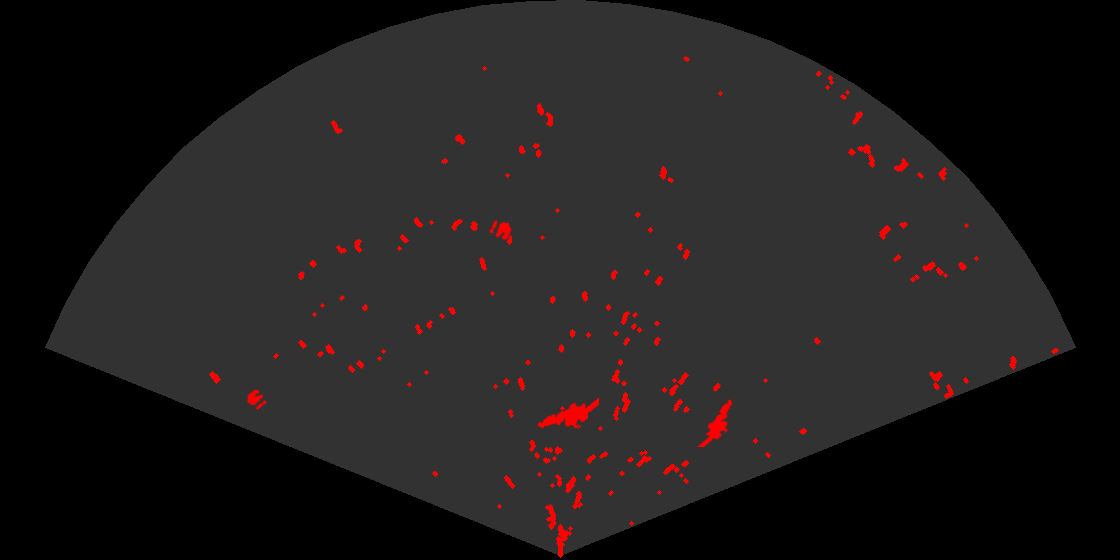ball: (488, 219, 514, 242), (245, 388, 269, 411)
frogman: (695, 396, 738, 447), (536, 396, 599, 430)
